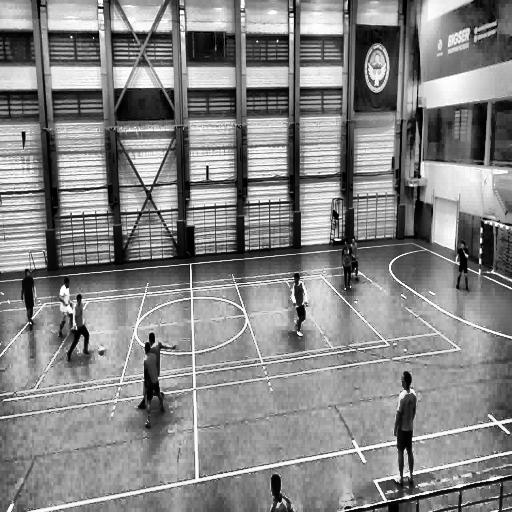ball: (99, 346, 104, 356)
player: (388, 368, 417, 487), (138, 330, 176, 414), (68, 294, 90, 361), (57, 276, 74, 340), (291, 271, 307, 336), (22, 269, 36, 328), (453, 240, 468, 290), (342, 240, 351, 290), (350, 236, 359, 282)
